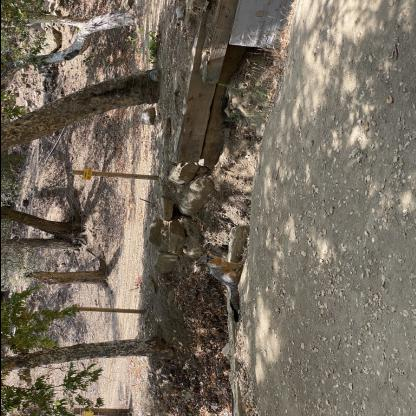zorro: (192, 251, 248, 328)
